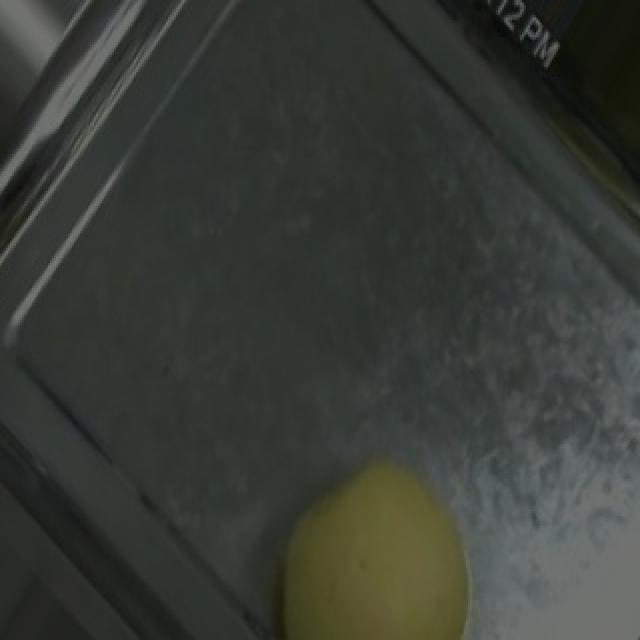Fruit: (238, 429, 506, 640)
